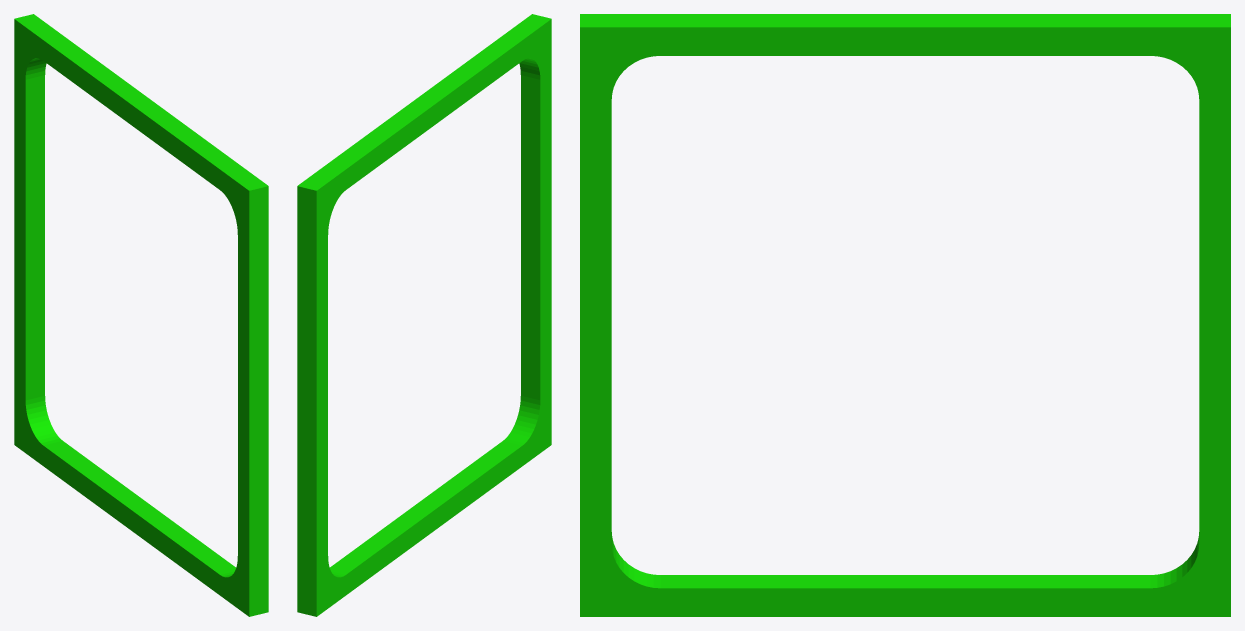
File: challange4.dae
3 views of the same model, side by side, from view 1: azimuth 30°, elevation 25°; view 2: azimuth 150°, elevation 25°; view 3: azimuth 270°, elevation 25° (orthographic). The views are drawn at different scales.
Parts seen in each view (by area): view 1: Chllange 4; view 2: Chllange 4; view 3: Chllange 4.
Part boxes in pixels (bbox=[...]): Chllange 4: bbox=[14, 14, 268, 616]; Chllange 4: bbox=[297, 14, 551, 616]; Chllange 4: bbox=[580, 14, 1230, 616].
Bounding box in the file's own units: 0.1139 × 2.37 × 2.37.
